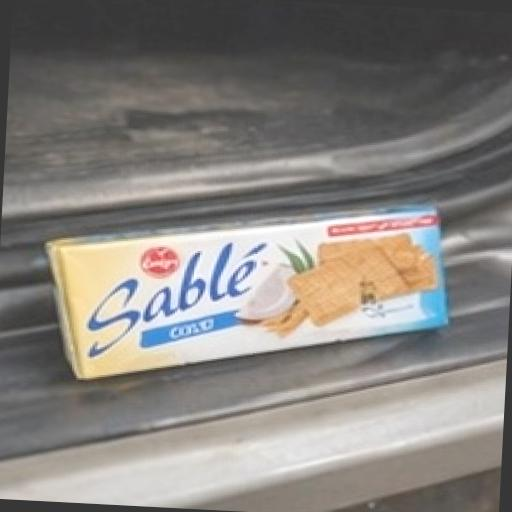sabl: (8, 140, 510, 458)
